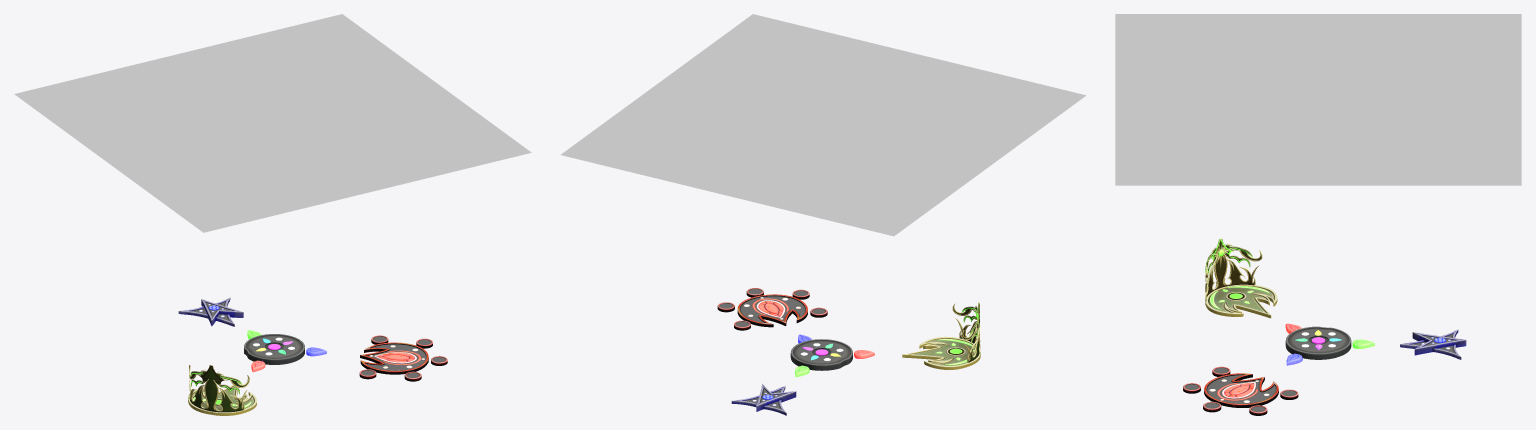
Rendered from 3Bases_&_1Centre.fbx.
3 views of the same model, side by side, from view 1: azimuth 30°, elevation 25°; view 2: azimuth 150°, elevation 25°; view 3: azimuth 270°, elevation 25° (orthographic). The views are drawn at different scales.
Parts seen in each view (by area): view 1: Plane, Base_02, Base_01.002, Base_Center, Base_03; view 2: Plane, Base_02, Base_01.002, Base_Center, Base_03; view 3: Plane, Base_01.002, Base_02, Base_Center, Base_03.
Boxes of the visible parts, x1,y1,x2,y2 form: Plane: [14, 14, 531, 232]; Base_02: [359, 335, 447, 381]; Base_01.002: [188, 365, 256, 415]; Base_Center: [244, 330, 326, 372]; Base_03: [178, 297, 243, 326]; Plane: [561, 14, 1086, 236]; Base_02: [717, 288, 827, 330]; Base_01.002: [902, 302, 980, 369]; Base_Center: [790, 334, 874, 377]; Base_03: [731, 384, 796, 415]; Plane: [1115, 14, 1521, 185]; Base_01.002: [1205, 238, 1277, 318]; Base_02: [1183, 366, 1298, 415]; Base_Center: [1285, 323, 1374, 365]; Base_03: [1400, 329, 1466, 359].
Bounding box in the file's own units: 935 × 629 × 935.
